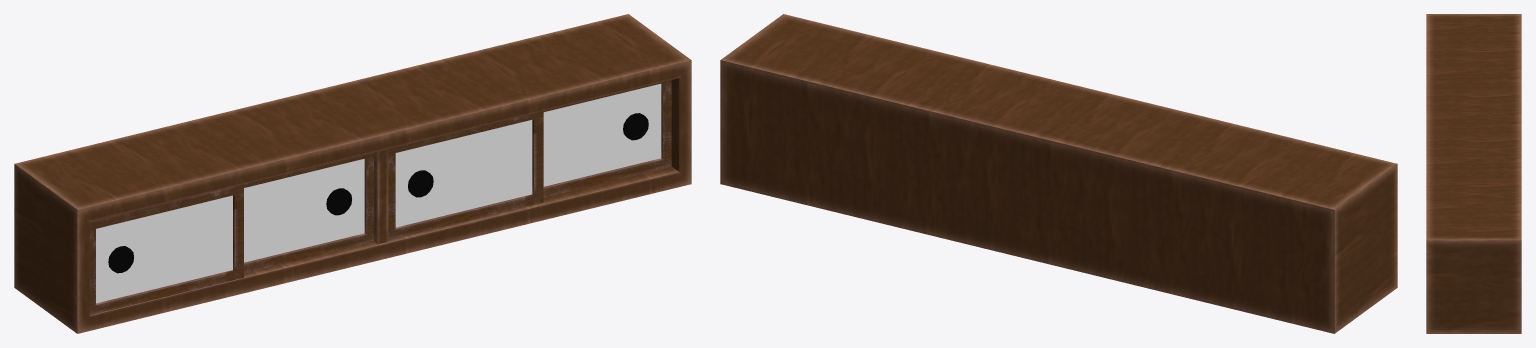
The model's file is Wooden small Closet 2Y.fbx.
3 views of the same model, side by side, from view 1: azimuth 30°, elevation 25°; view 2: azimuth 150°, elevation 25°; view 3: azimuth 270°, elevation 25° (orthographic). The views are drawn at different scales.
Visible parts, largest first — view 1: Wooden small Closet 2Y, Closet Door 2Y, Closet Door 2Y.002, Closet Door 2Y.001, Closet Door 2Y.003; view 2: Wooden small Closet 2Y; view 3: Wooden small Closet 2Y.
Boxes of the visible parts, left/top/right/bottom form: Wooden small Closet 2Y: left=14, top=14, right=691, bottom=333; Closet Door 2Y: left=89, top=184, right=243, bottom=315; Closet Door 2Y.002: left=388, top=111, right=543, bottom=240; Closet Door 2Y.001: left=244, top=152, right=374, bottom=273; Closet Door 2Y.003: left=543, top=80, right=671, bottom=197; Wooden small Closet 2Y: left=720, top=14, right=1397, bottom=333; Wooden small Closet 2Y: left=1426, top=14, right=1521, bottom=333.
Bounding box in the file's own units: 246 × 47.51 × 43.73.
